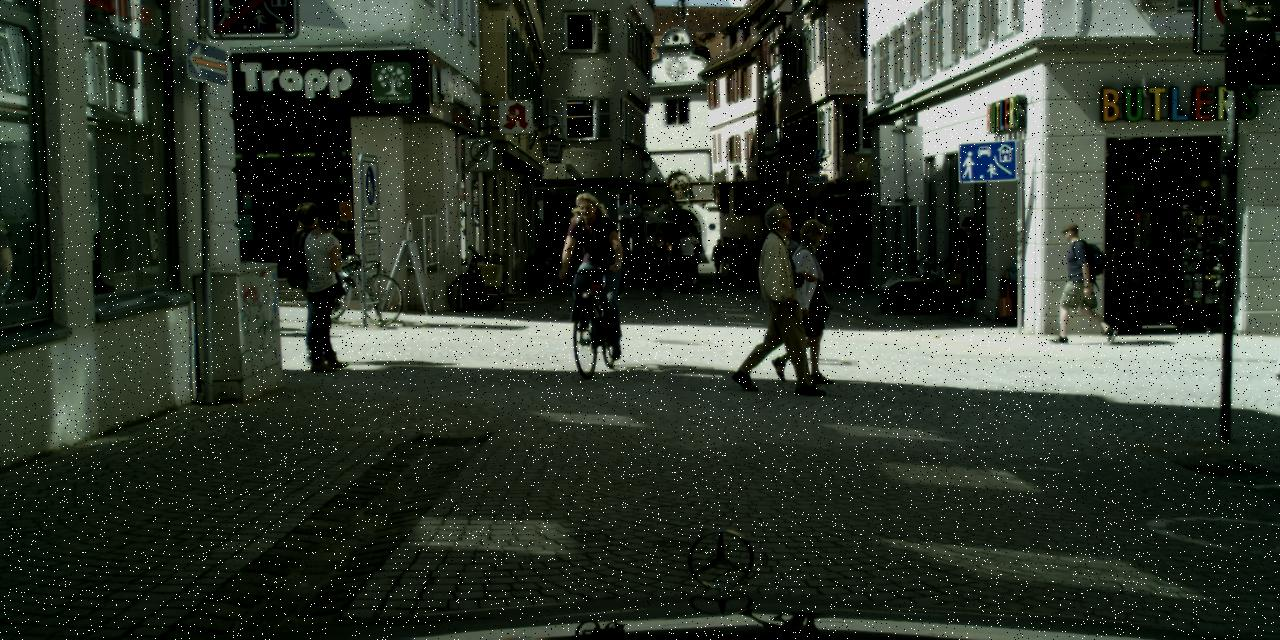ped: (738, 204, 814, 390), (296, 204, 363, 368), (278, 200, 344, 362), (772, 218, 838, 378), (561, 192, 623, 346), (1054, 223, 1102, 343), (942, 215, 982, 314), (645, 233, 672, 298), (675, 228, 701, 292), (778, 228, 802, 290), (809, 228, 833, 288), (818, 232, 841, 290), (734, 235, 754, 287), (743, 240, 762, 287), (711, 238, 726, 278), (725, 239, 740, 277), (749, 236, 764, 271)
